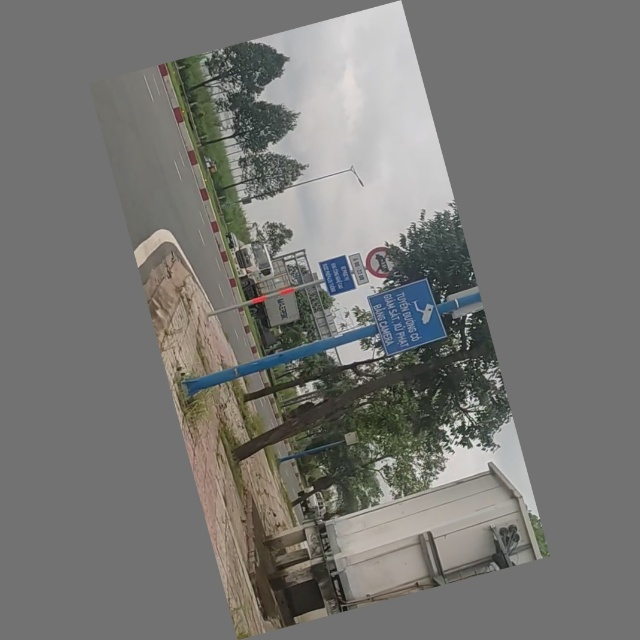Camera: (368, 277, 449, 354)
